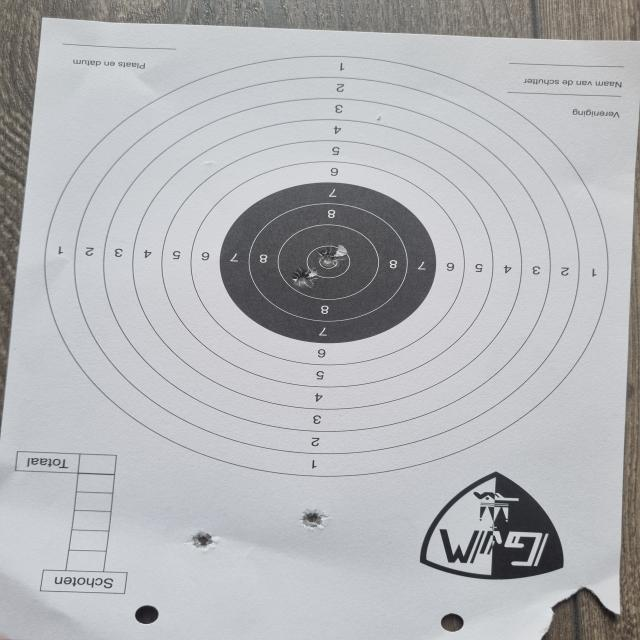2: (316, 246, 346, 268), (290, 268, 316, 288)
Black Contour: (220, 182, 437, 344)
Target: (44, 55, 612, 478)
hole: (300, 509, 328, 528), (191, 532, 215, 548)
